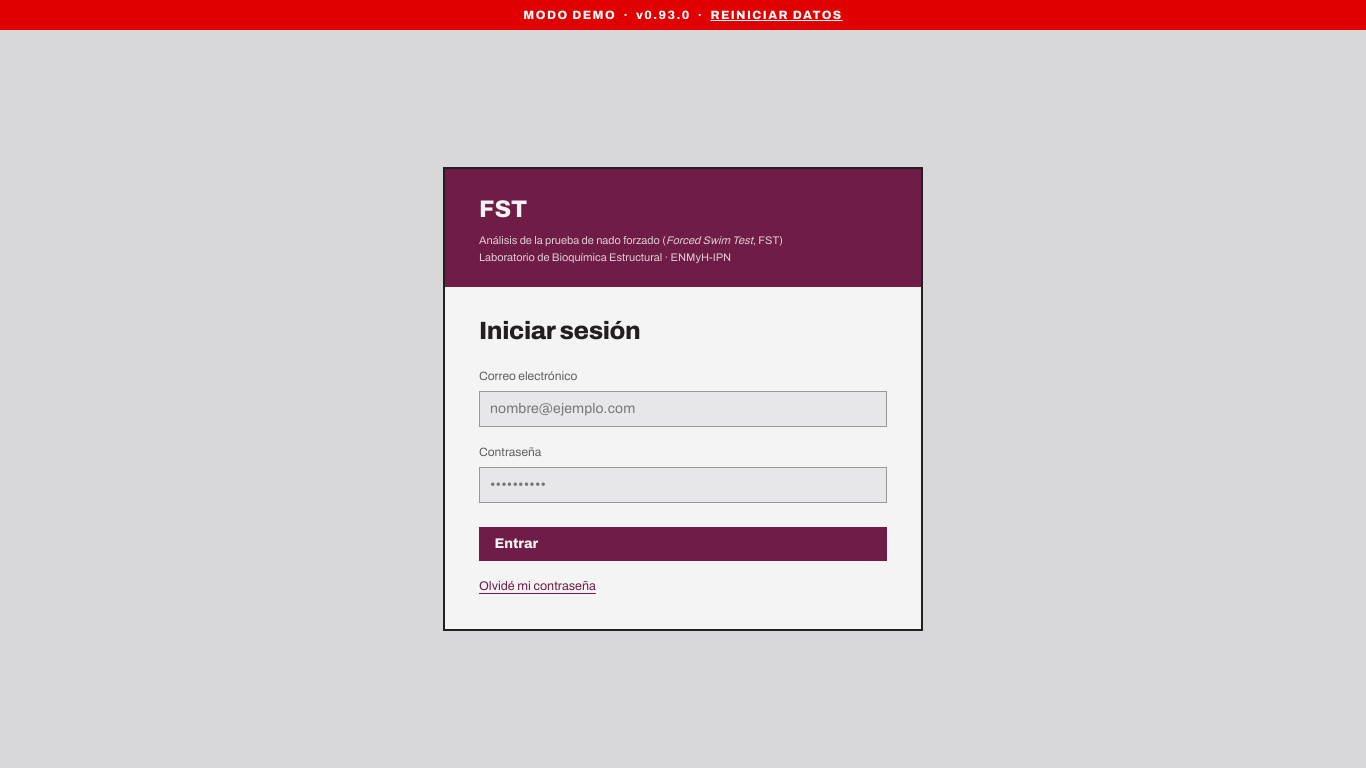
Test: acceso › marca el correo que no tiene forma de correo
In the field labelled "Correo electrónico": {"x": 683, "y": 409} [479,391,887,427], type "alguien@gmail"
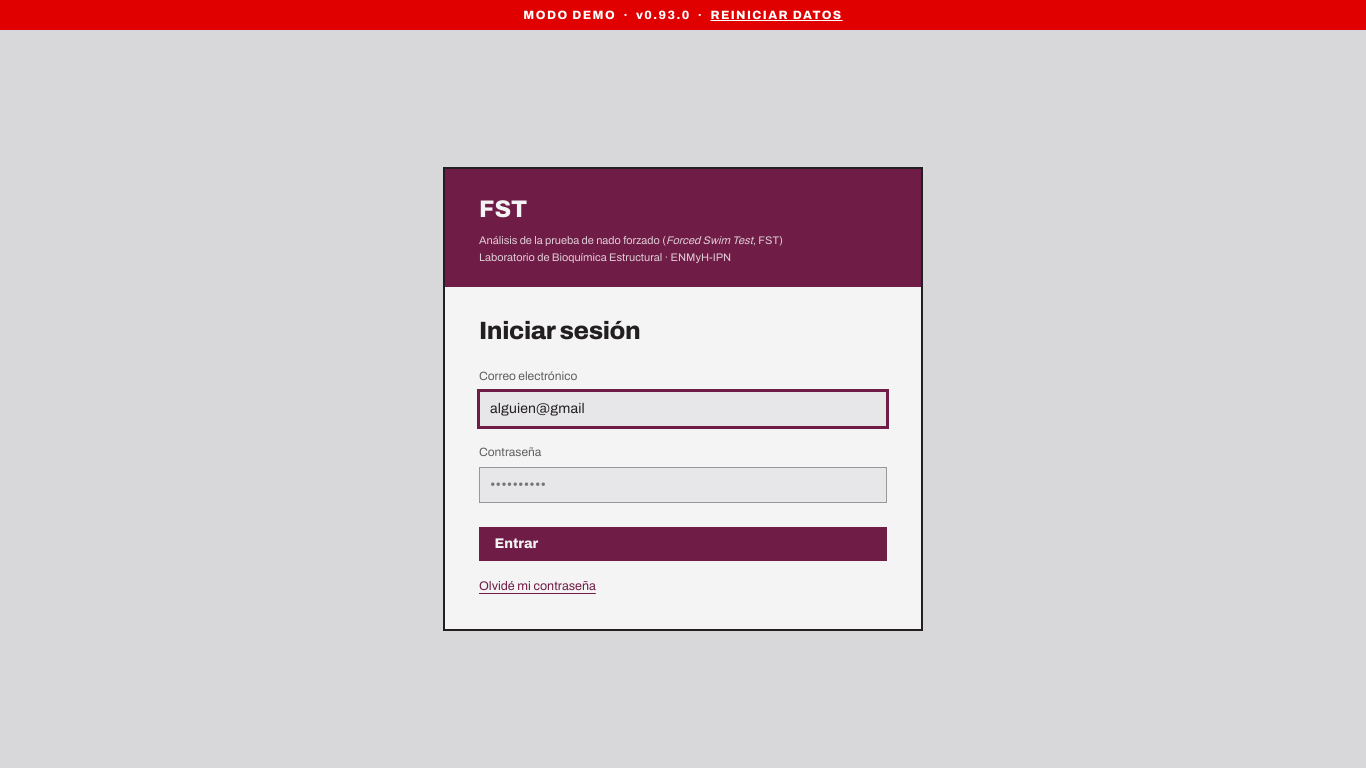
In the password field labelled "Contraseña": {"x": 683, "y": 485} [479,467,887,503], type "x"
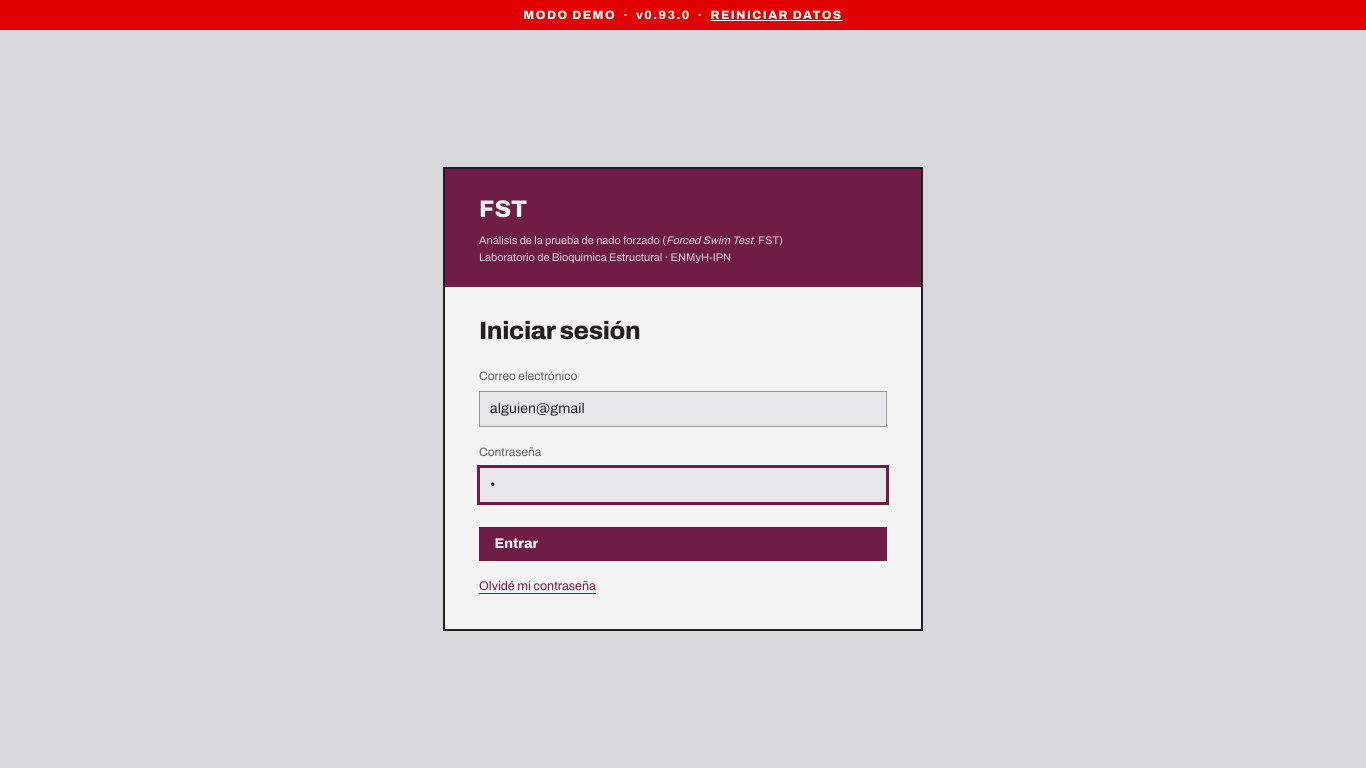
Click the button "Entrar": {"x": 516, "y": 543} [479,527,887,561]
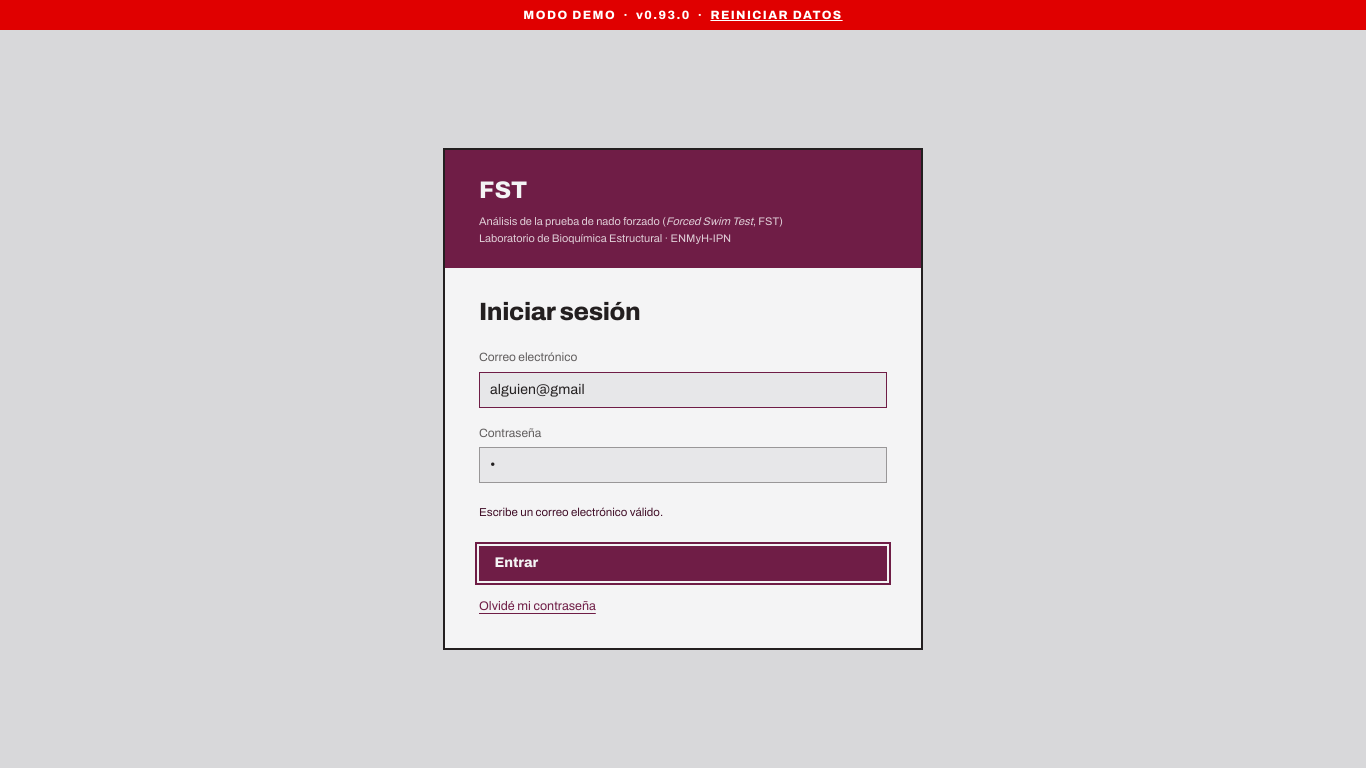
Now the text "Escribe un correo electrónico válido." is shown, box [479,506,663,518]
